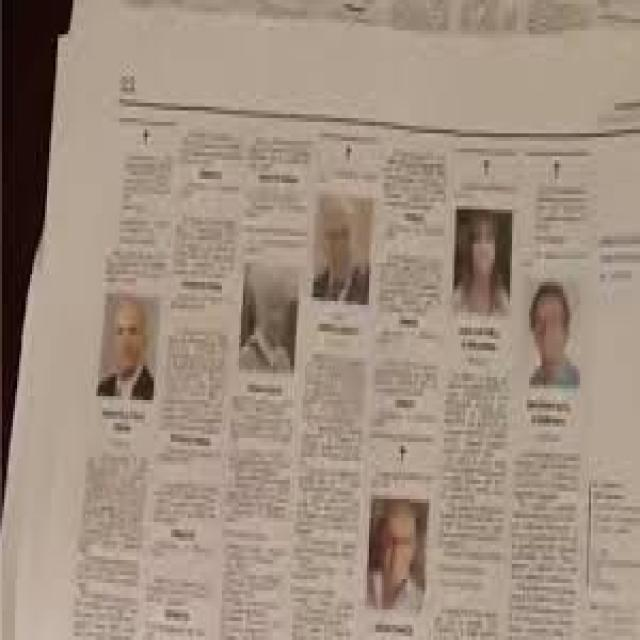Newspaper: (39, 7, 640, 640)
